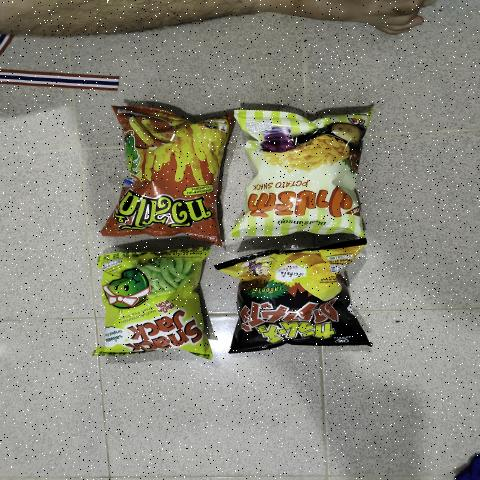karamujo: (241, 256, 342, 342)
paprika: (244, 108, 357, 233)
snack_jack: (105, 248, 200, 353)
twisco: (117, 108, 219, 236)
